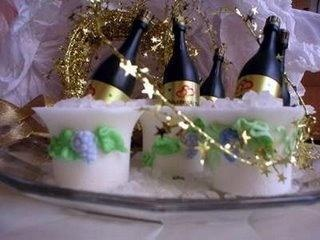bottle: (85, 8, 156, 101), (236, 15, 285, 100), (162, 15, 202, 107), (202, 46, 228, 101), (282, 30, 291, 107)
